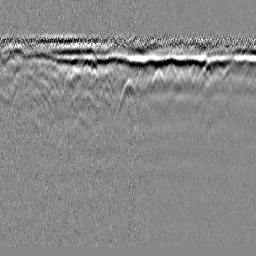cavity: (118, 76, 140, 112)
